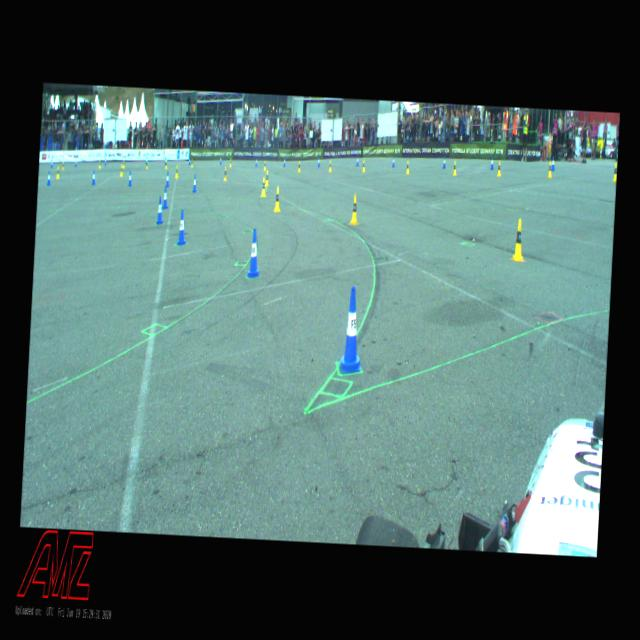blue_cone: (338, 285, 366, 375), (246, 228, 264, 277), (177, 210, 188, 246), (156, 197, 164, 224), (162, 187, 169, 210), (192, 175, 198, 192), (46, 170, 52, 186), (551, 156, 556, 172), (128, 171, 132, 187), (166, 172, 170, 188), (490, 157, 494, 170), (356, 155, 360, 167), (392, 156, 396, 168), (92, 170, 95, 185), (318, 156, 322, 167), (443, 156, 446, 168), (75, 158, 77, 168), (284, 157, 286, 166), (220, 157, 222, 166), (188, 157, 190, 166), (255, 158, 257, 166), (51, 160, 53, 168), (145, 156, 147, 164), (105, 158, 107, 165)
yellow_cone: (512, 217, 526, 262), (350, 194, 360, 225), (274, 186, 282, 212), (261, 176, 267, 198), (612, 162, 617, 182), (452, 160, 458, 176), (547, 160, 552, 178), (265, 169, 270, 187), (497, 160, 502, 177), (223, 166, 228, 182), (56, 166, 60, 180), (406, 160, 410, 174), (175, 165, 179, 178), (328, 160, 332, 173), (120, 165, 124, 178), (362, 159, 365, 172), (165, 159, 168, 170), (191, 158, 194, 168), (264, 160, 266, 172), (298, 161, 300, 171), (99, 160, 101, 170), (230, 158, 232, 168), (123, 160, 125, 169), (146, 161, 148, 170), (62, 162, 64, 170)
